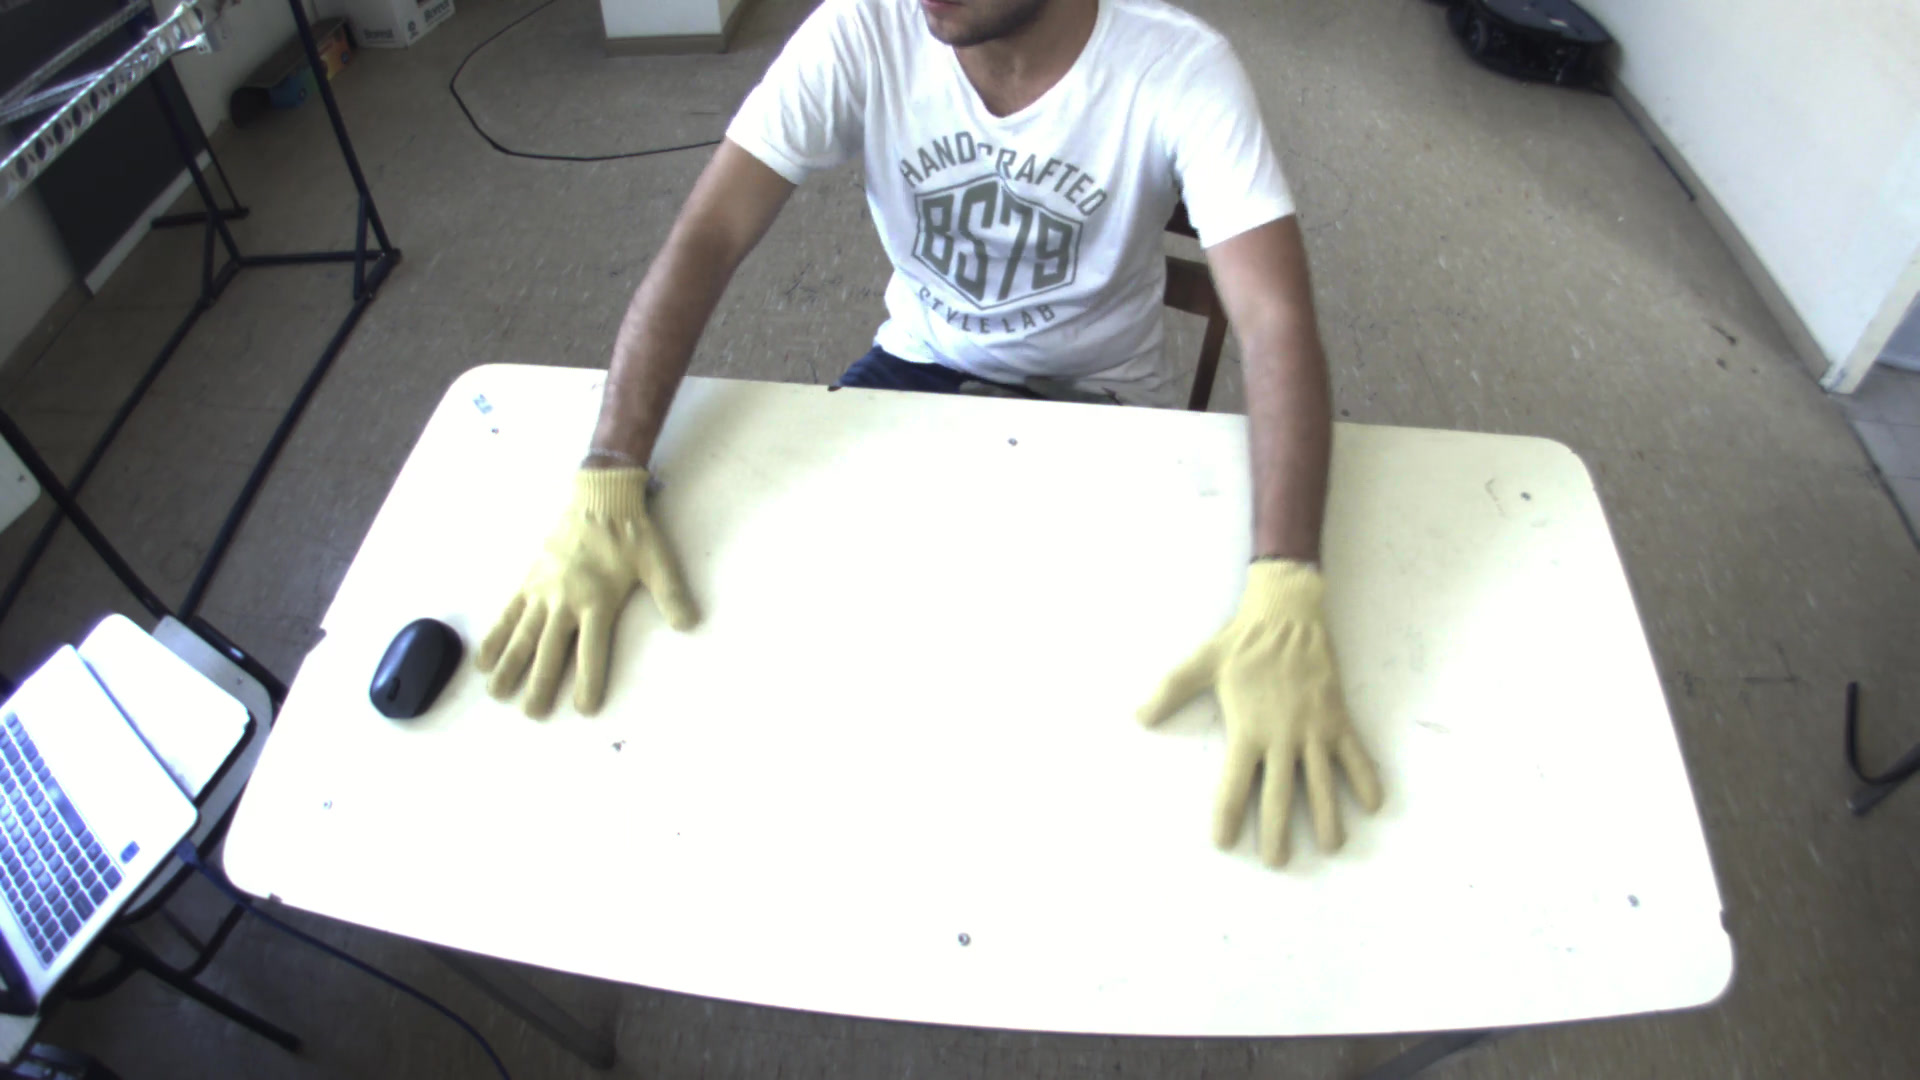hand: (1131, 553, 1414, 881), (456, 443, 711, 727)
